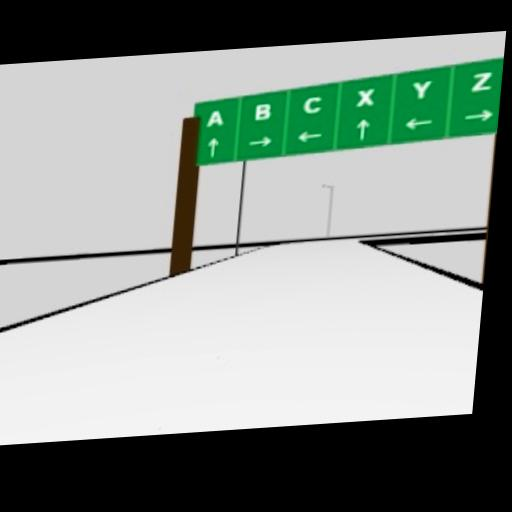A: (204, 108, 225, 126)
B: (254, 101, 271, 119)
C: (302, 94, 322, 113)
Left: (402, 115, 434, 129), (296, 128, 322, 141)
Right: (463, 106, 495, 122), (246, 133, 271, 147)
Straight: (354, 116, 370, 139), (205, 136, 219, 156)
X: (355, 86, 376, 106)
Y: (411, 78, 432, 98)
Z: (469, 70, 493, 91)
